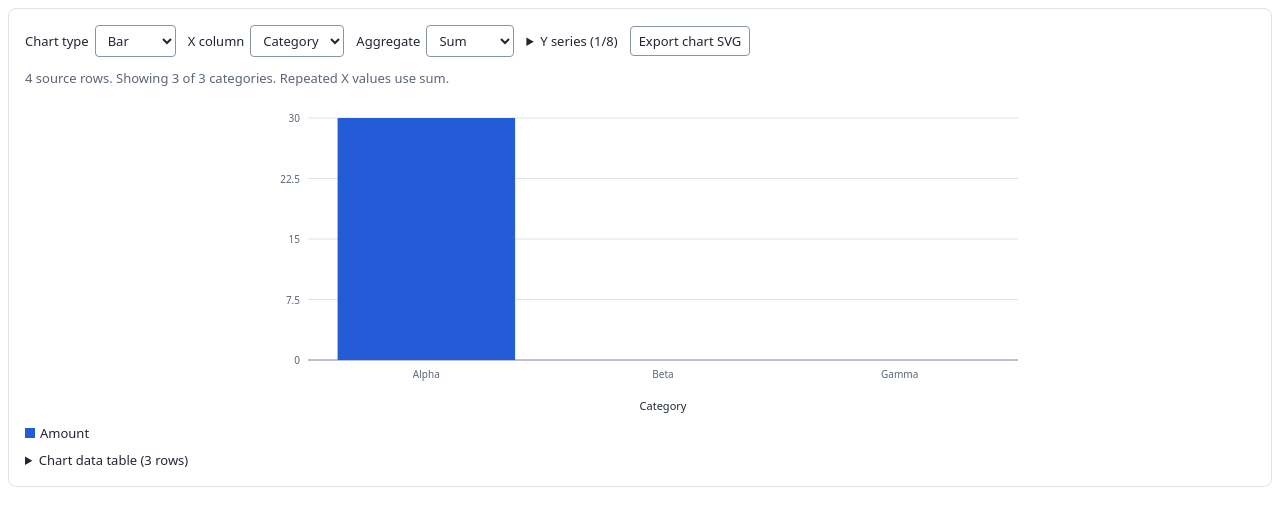
Test: React GridChart › exports real SVG through a browser download and reports success
Click the button "Export chart SVG".
click(690, 41)  # box x1=630 y1=26 x2=750 y2=56
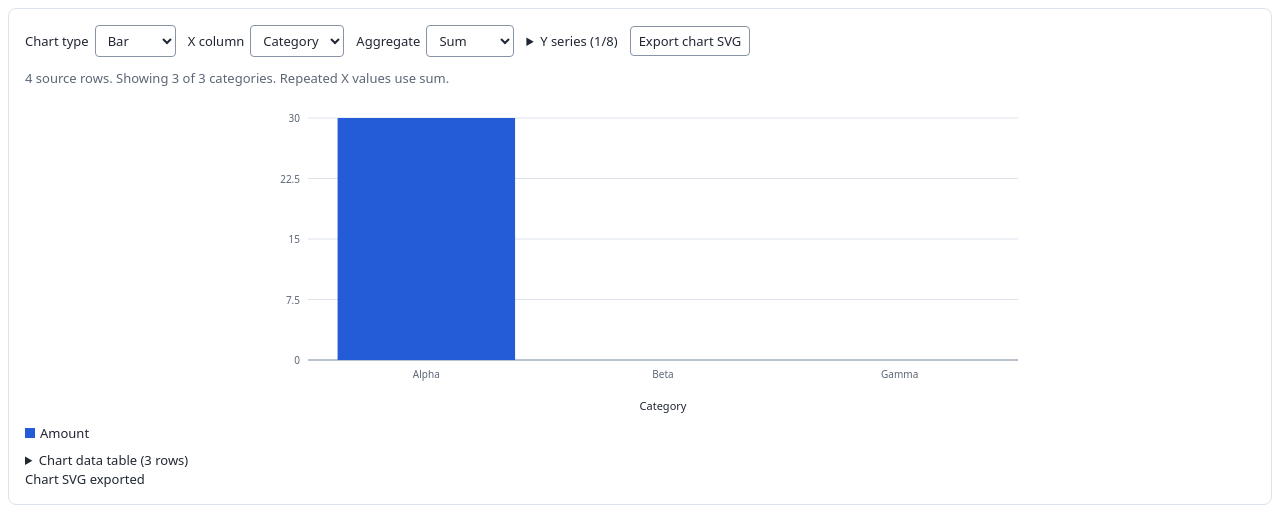
Now the message reads "Chart SVG exported", box x1=25 y1=470 x2=145 y2=488
